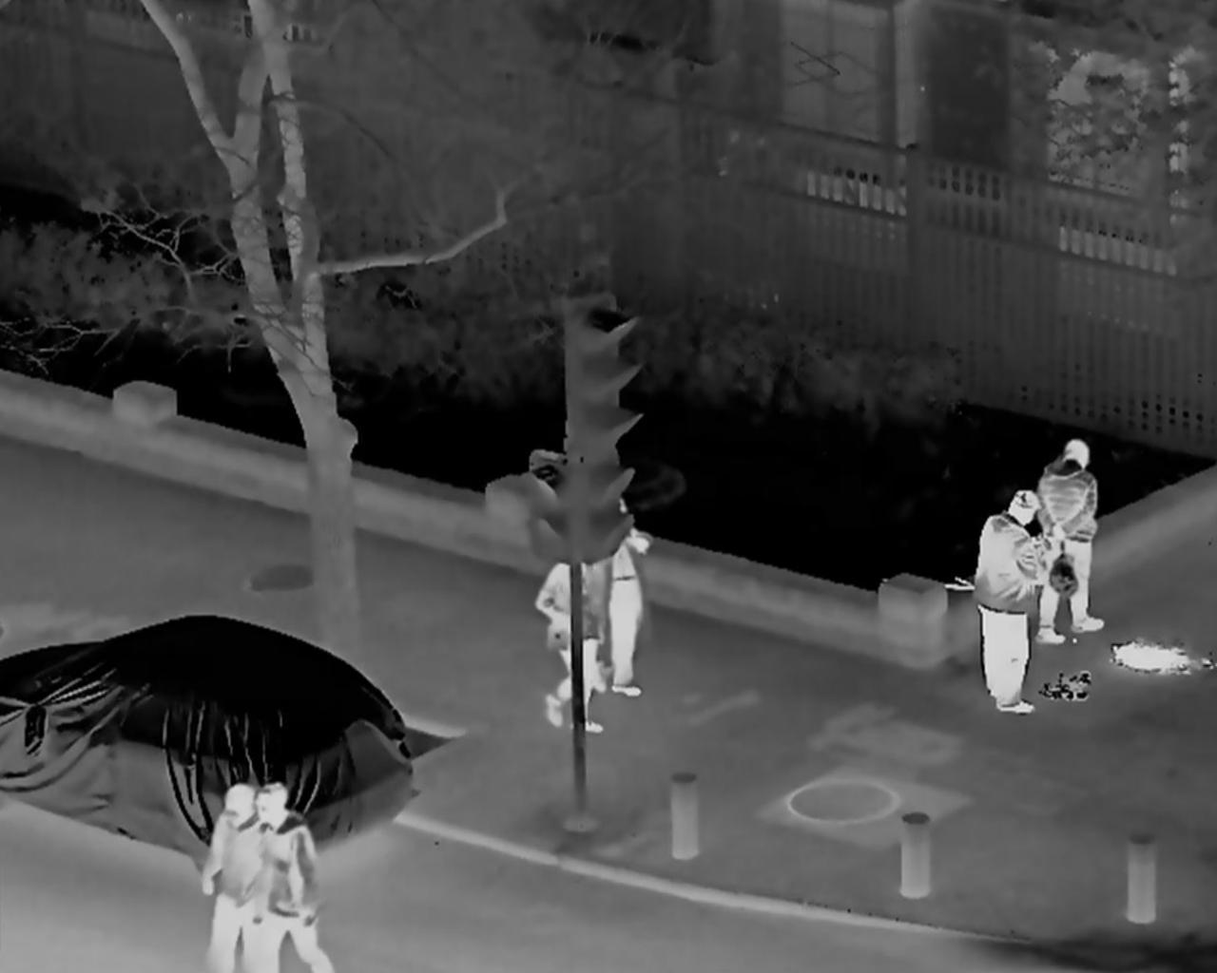person: (247, 781, 336, 973), (971, 486, 1041, 714), (1033, 436, 1107, 641), (539, 533, 611, 741), (582, 488, 648, 700), (196, 778, 264, 973)
